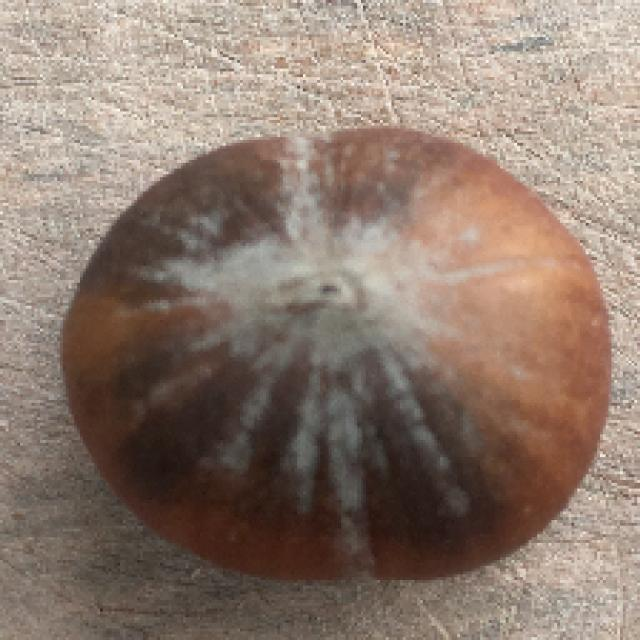damagedHazelnut: (66, 124, 616, 584)
